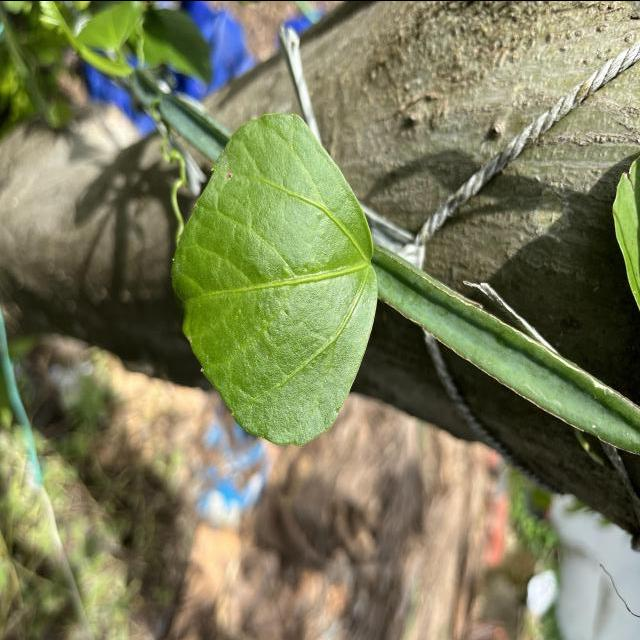Cissus quadrangularis: (168, 109, 386, 452)
